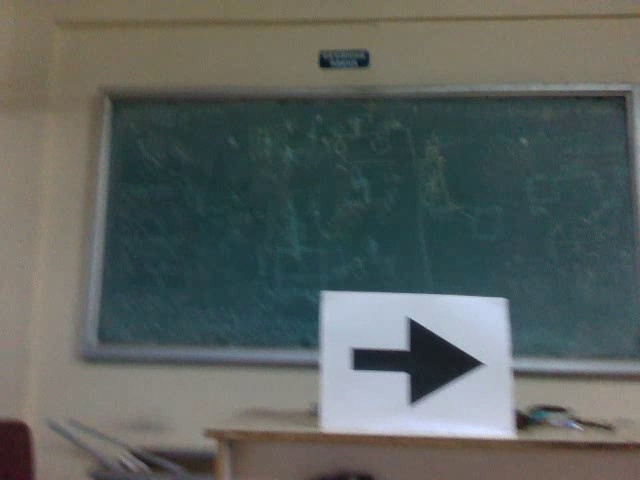Right: (341, 313, 496, 412)
